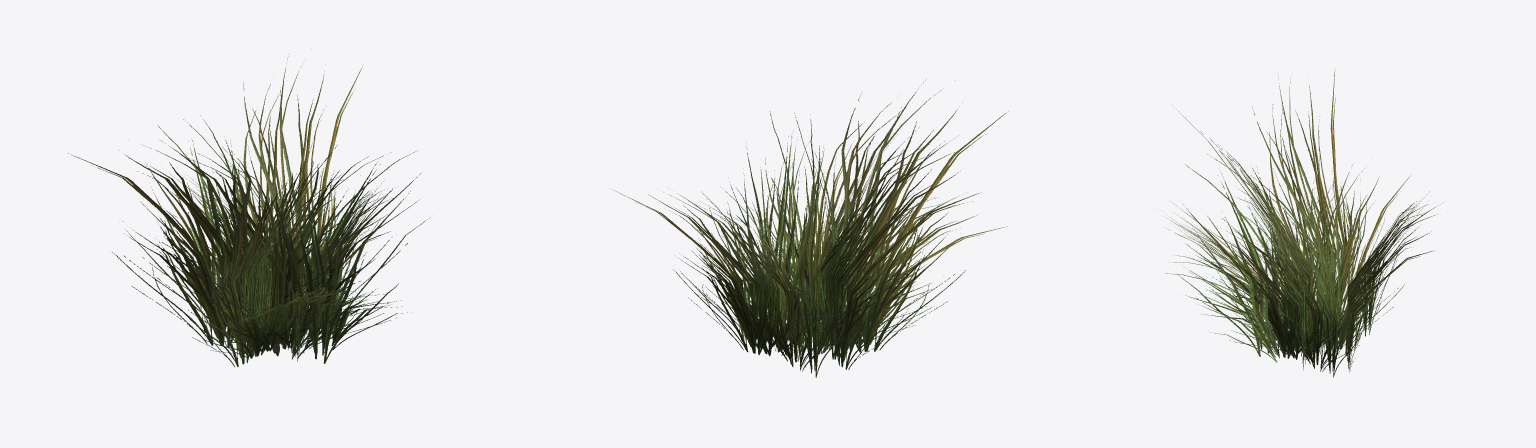
The model's file is DF_JP_Grass_01.fbx.
The picture shows the model from 3 angles, left to right: view 1: azimuth 30°, elevation 25°; view 2: azimuth 150°, elevation 25°; view 3: azimuth 270°, elevation 25°; orthographic projection. The views are drawn at different scales.
Visible parts, largest first — view 1: DF_JP_Grass_01_LOD0; view 2: DF_JP_Grass_01_LOD0; view 3: DF_JP_Grass_01_LOD0.
Part boxes in pixels (box(x1,y1,x2,y2)): DF_JP_Grass_01_LOD0: box(68, 48, 430, 367); DF_JP_Grass_01_LOD0: box(611, 78, 1009, 377); DF_JP_Grass_01_LOD0: box(1161, 68, 1443, 377).
Size of what is drawn, in the model's own units: 116 by 71.69 by 114.
